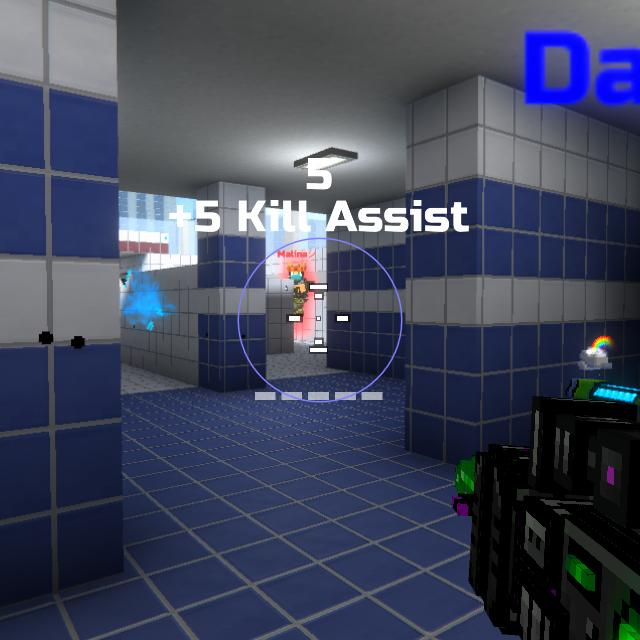Enemy: (288, 263, 315, 322)
